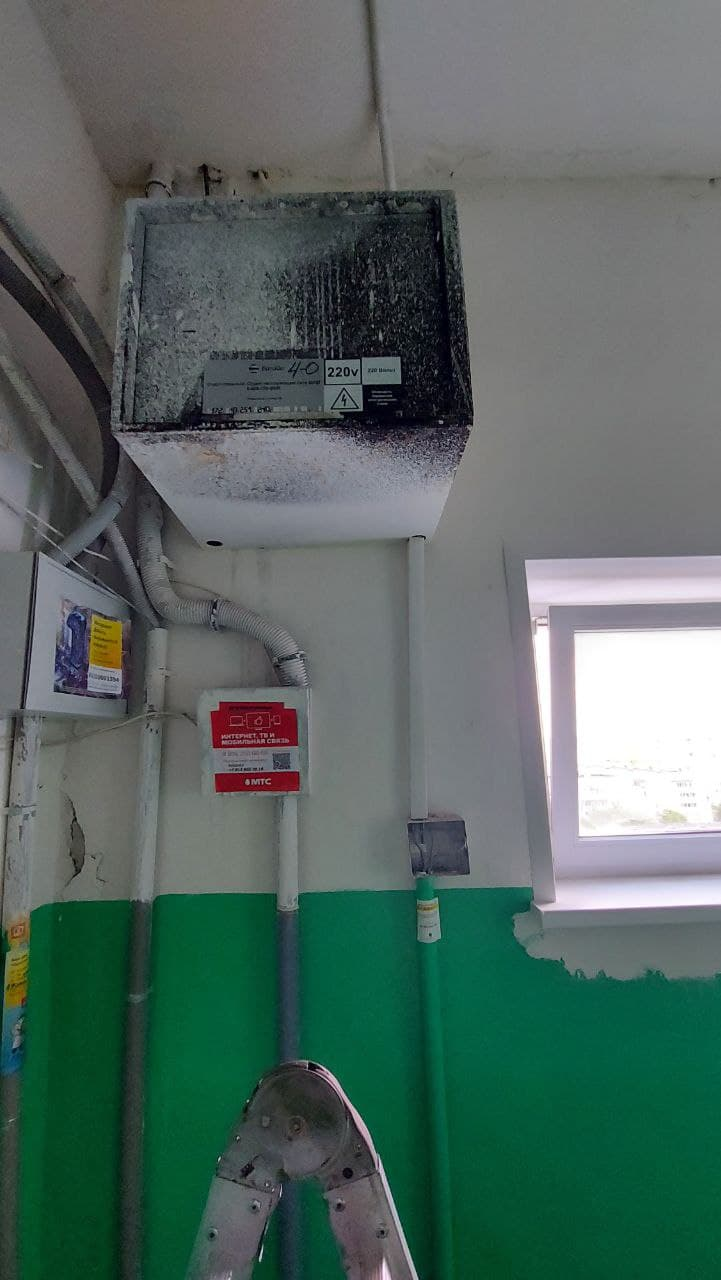shta-9m: (102, 185, 480, 549)
